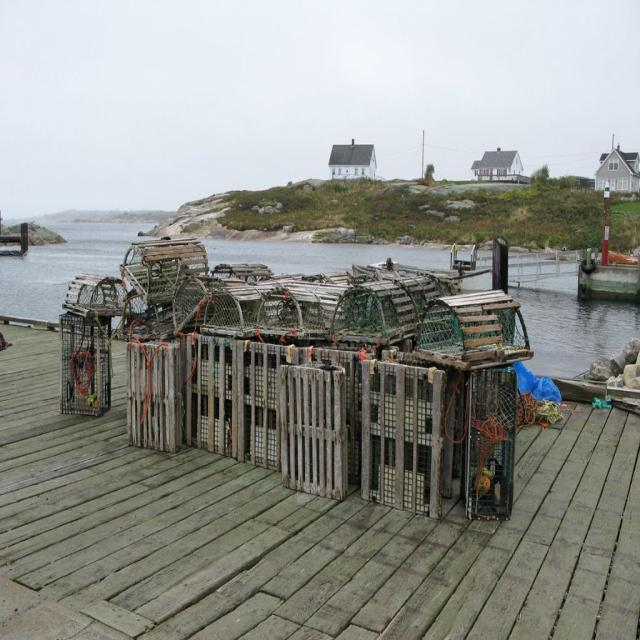Boat: (576, 244, 640, 298)
